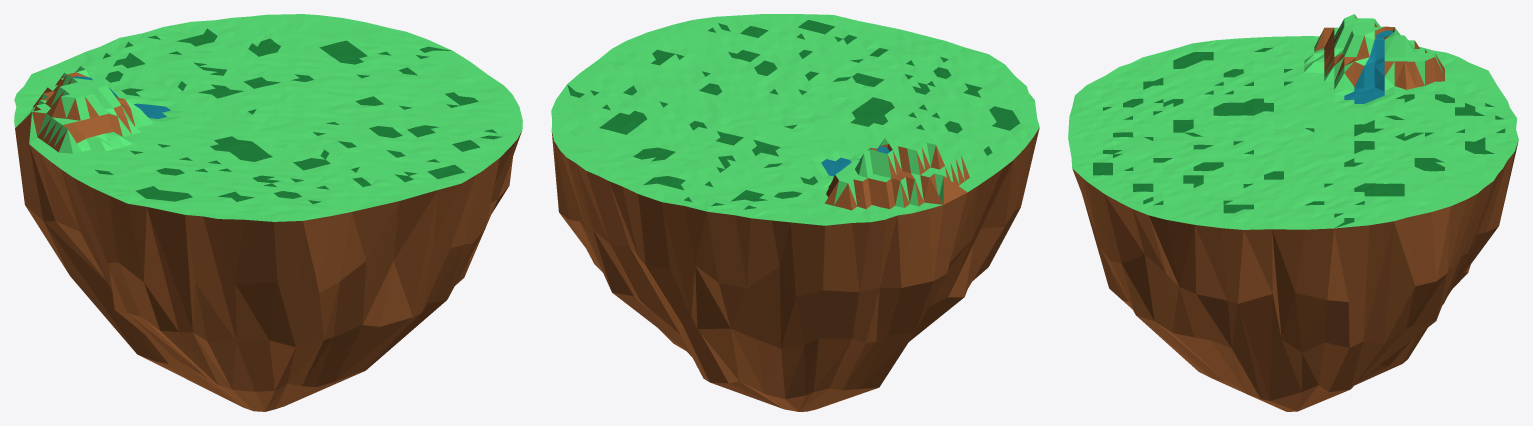
The model's file is IslandMain.fbx.
3 views of the same model, side by side, from view 1: azimuth 30°, elevation 25°; view 2: azimuth 150°, elevation 25°; view 3: azimuth 270°, elevation 25° (orthographic). The views are drawn at different scales.
Parts seen in each view (by area): view 1: IslandMainMeshTop, IslandMainMeshBottom; view 2: IslandMainMeshTop, IslandMainMeshBottom; view 3: IslandMainMeshTop, IslandMainMeshBottom.
Boxes of the visible parts, x1=… form: IslandMainMeshTop: x1=14, y1=14, x2=522, y2=221; IslandMainMeshBottom: x1=15, y1=129, x2=521, y2=411; IslandMainMeshTop: x1=551, y1=14, x2=1039, y2=225; IslandMainMeshBottom: x1=551, y1=118, x2=1039, y2=411; IslandMainMeshTop: x1=1068, y1=14, x2=1518, y2=229; IslandMainMeshBottom: x1=1072, y1=141, x2=1518, y2=411.
Bounding box in the file's own units: 8282 × 6156 × 8148.
